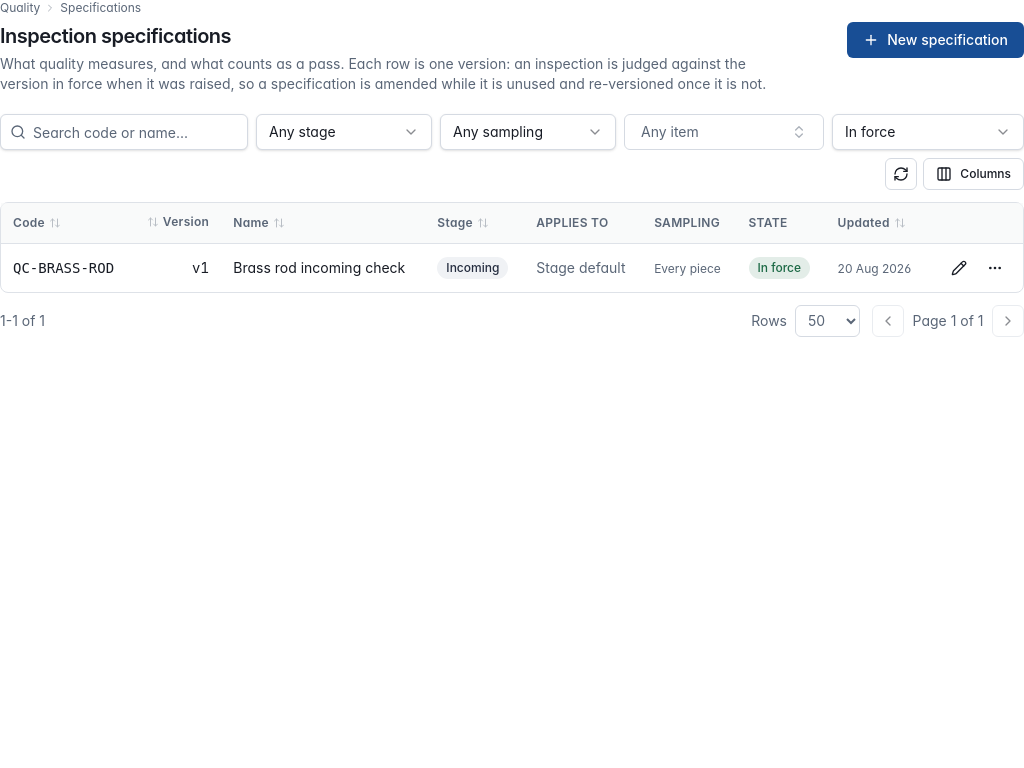
it: amending a version › offers the fork when the API refuses the edit as frozen
Click the button named "Amend QC-BRASS-ROD v1".
click(959, 268)  # box [943,252,975,284]
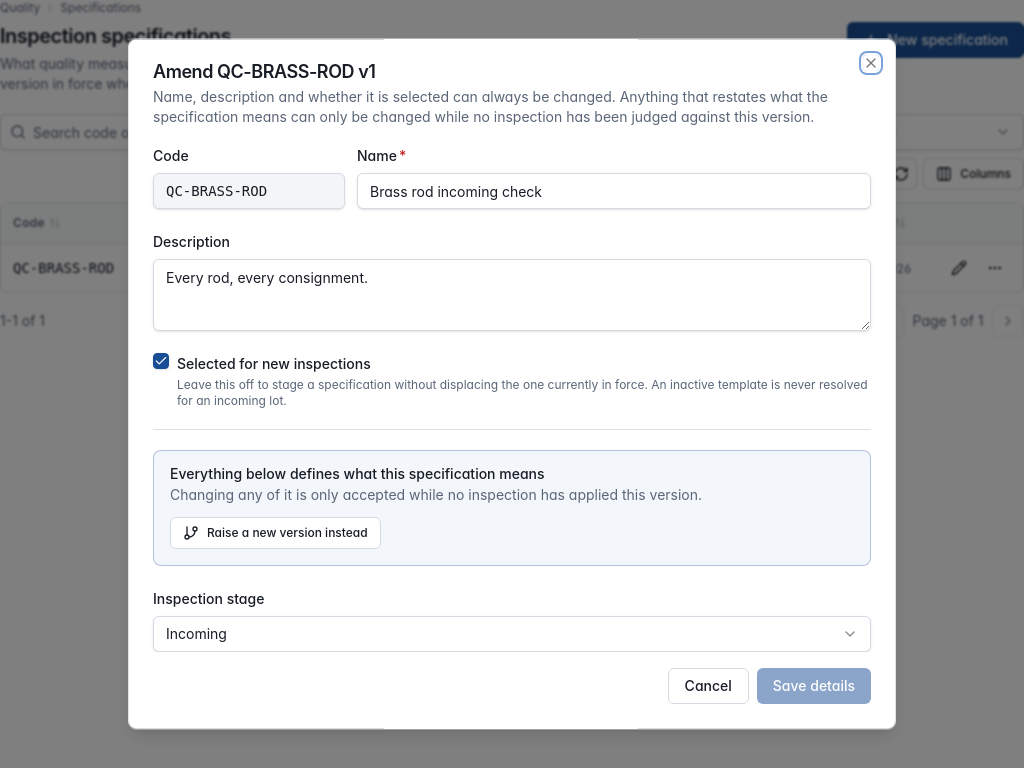
expect the field showing "Brass rod incoming check" is shown: met
Replace the text in the field labelled "Name" with "Brass rod check" at (614, 191), box [357,173,871,209]
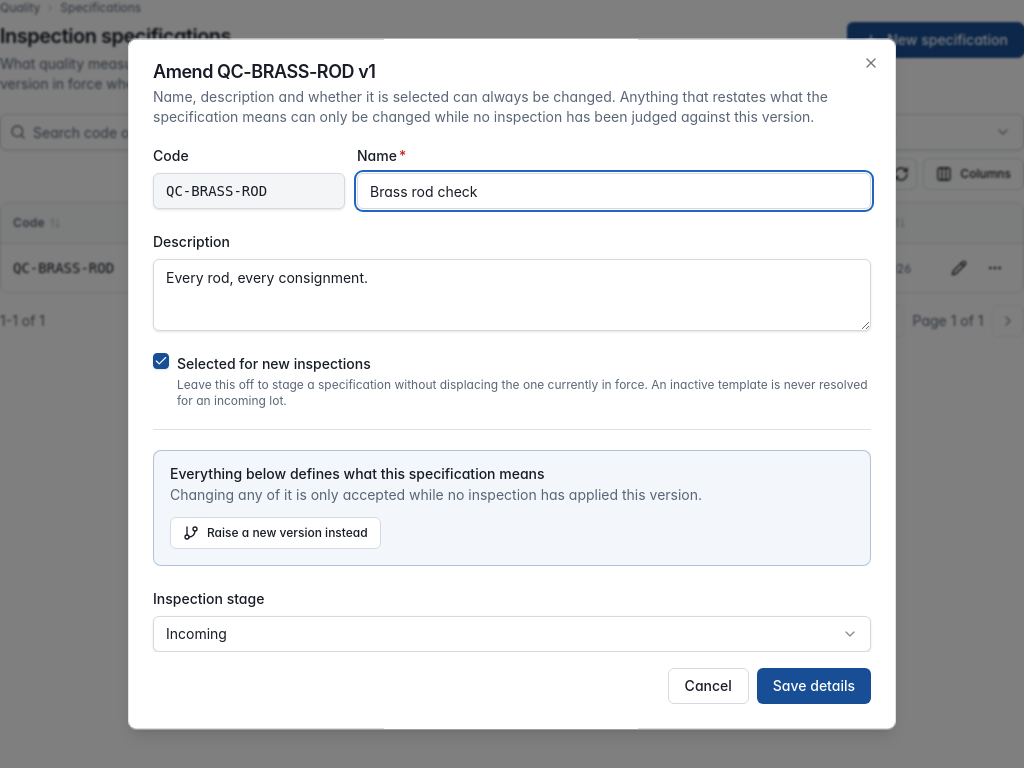
Click the button "Save details".
click(814, 687)  # box [757,669,871,705]
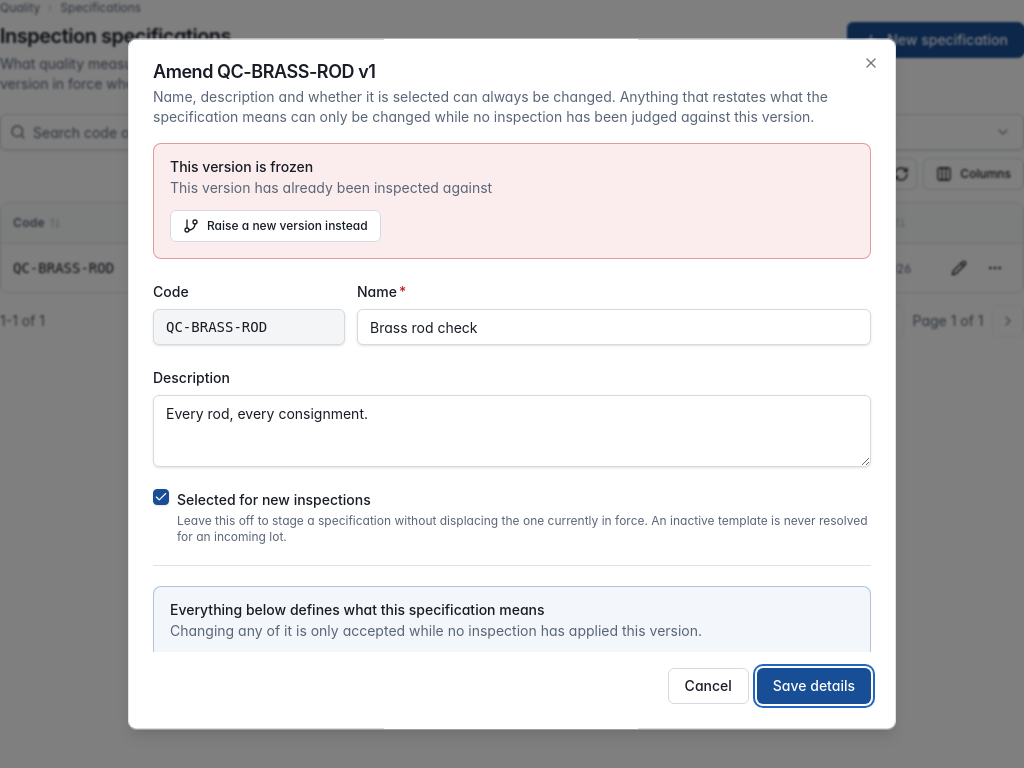
expect the heading "This version is frozen" is shown: met, box [170,158,313,175]
expect the text "This version has already been inspected against" is shown: met, box [170,179,492,196]
